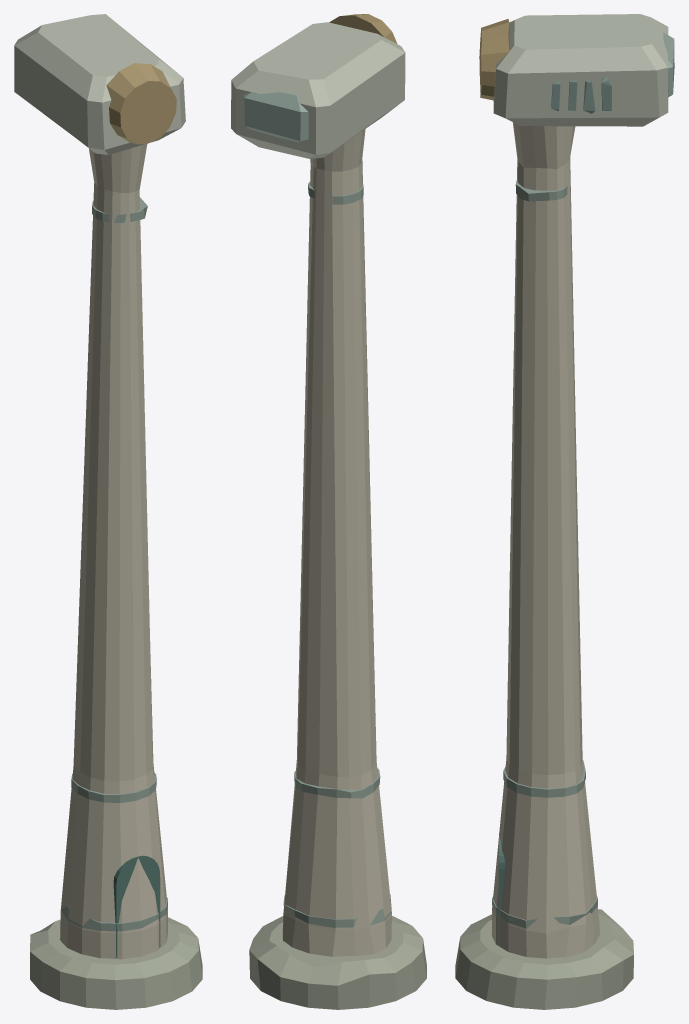
Rendered from turbine_mast.glb.
The picture shows the model from 3 angles, left to right: view 1: azimuth 30°, elevation 25°; view 2: azimuth 150°, elevation 25°; view 3: azimuth 270°, elevation 25°; orthographic projection. The views are drawn at different scales.
Visible parts, largest first — view 1: turbine_mast; view 2: turbine_mast; view 3: turbine_mast.
Part boxes in pixels (box(x1,y1,x2,y2)): turbine_mast: box(14, 14, 202, 1009); turbine_mast: box(231, 14, 426, 1009); turbine_mast: box(455, 14, 674, 1009).
Size of the model in its own units: 0.8 by 4.63 by 0.9688.
